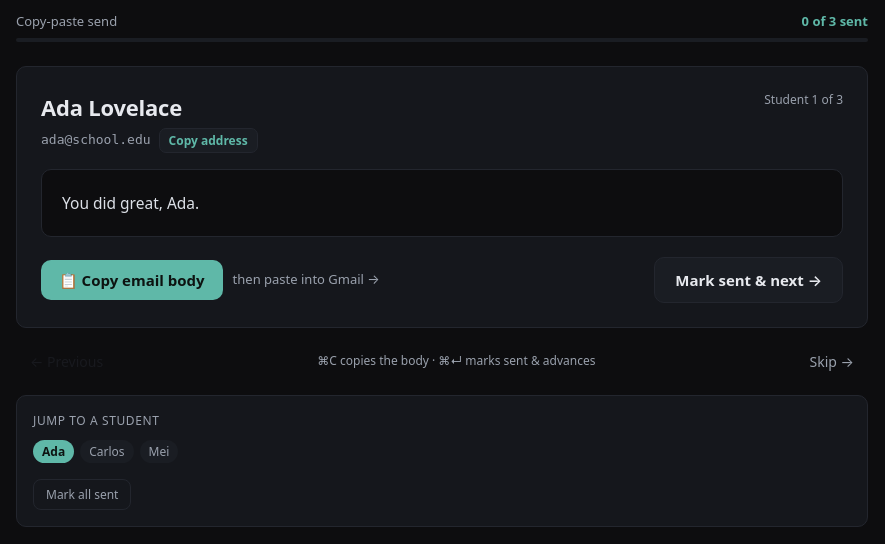
Test: SendStepper › clicking a jump chip navigates to that student
Click the button with aria-label "Jump to Mei Chen".
click(159, 451)  # box [140,440,178,463]
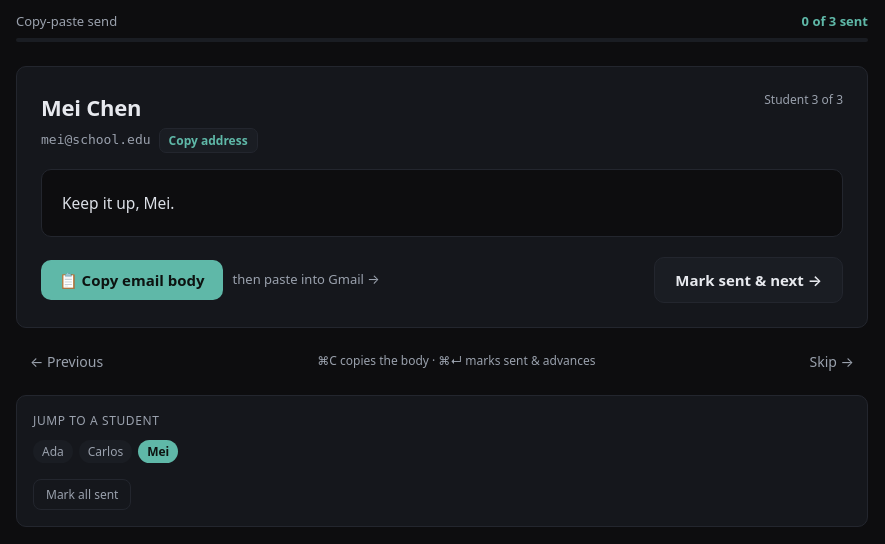
Result: the text "Keep it up, Mei." is shown at [41,168,843,237]
